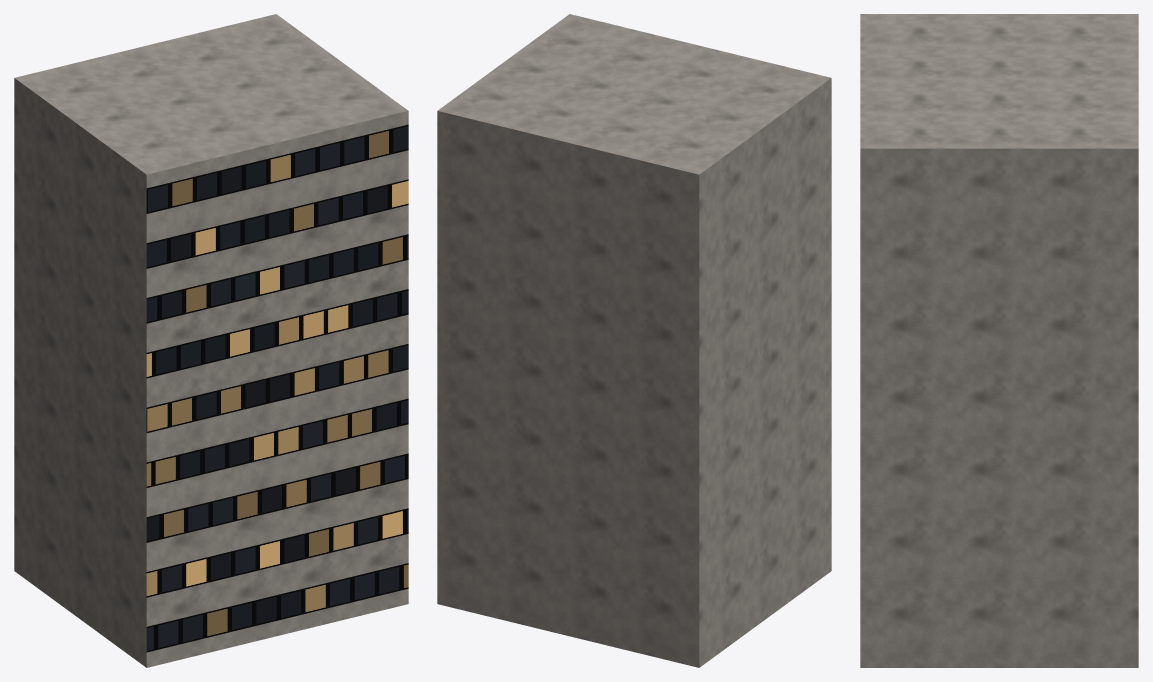
The model's file is Bld_Tower1.fbx.
3 views of the same model, side by side, from view 1: azimuth 30°, elevation 25°; view 2: azimuth 150°, elevation 25°; view 3: azimuth 270°, elevation 25° (orthographic). The views are drawn at different scales.
Parts seen in each view (by area): view 1: Bld_Tower1; view 2: Bld_Tower1; view 3: Bld_Tower1.
Part boxes in pixels (left/top/right/bottom): Bld_Tower1: left=14, top=14, right=408, bottom=667; Bld_Tower1: left=437, top=14, right=831, bottom=667; Bld_Tower1: left=860, top=14, right=1138, bottom=667.
Bounding box in the file's own units: 16 × 28.8 × 14.
